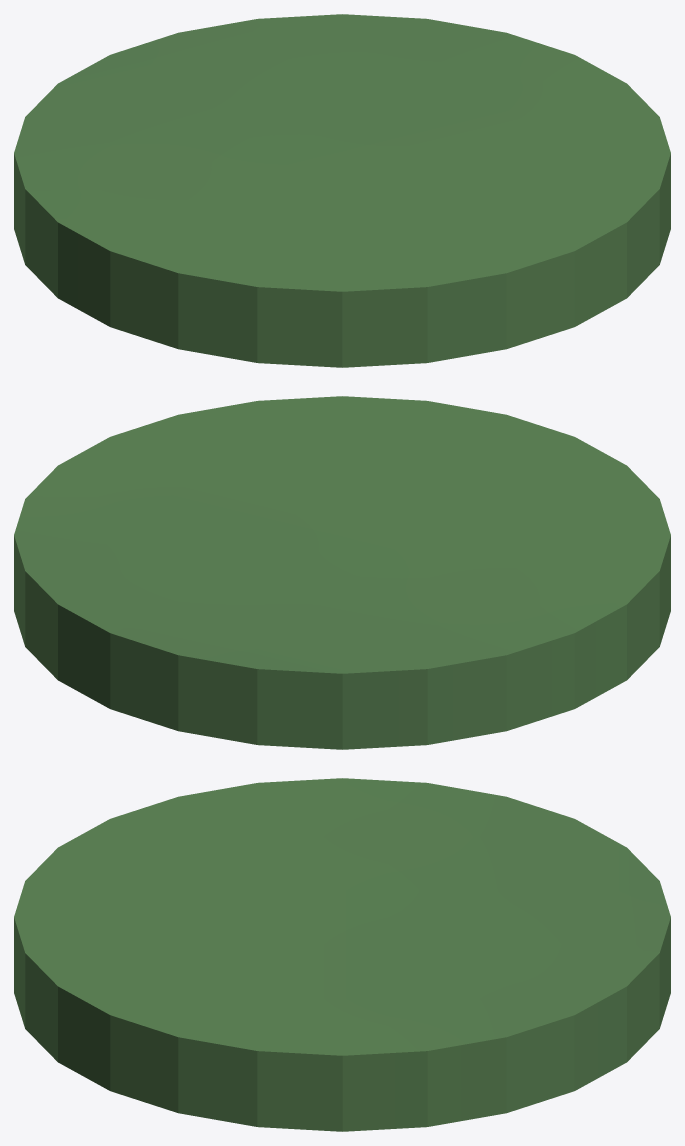
The model's file is poolwatercolider.fbx.
3 renders of one model, top to bottom at view 1: azimuth 30°, elevation 25°; view 2: azimuth 150°, elevation 25°; view 3: azimuth 270°, elevation 25°, orthographic.
Visible parts, largest first — view 1: Cylinder.002; view 2: Cylinder.002; view 3: Cylinder.002.
Boxes of the visible parts, x1=… form: Cylinder.002: x1=14, y1=14, x2=670, y2=367; Cylinder.002: x1=14, y1=396, x2=670, y2=749; Cylinder.002: x1=14, y1=778, x2=670, y2=1131.
Size of the model in its own units: 749 by 95.61 by 749.
